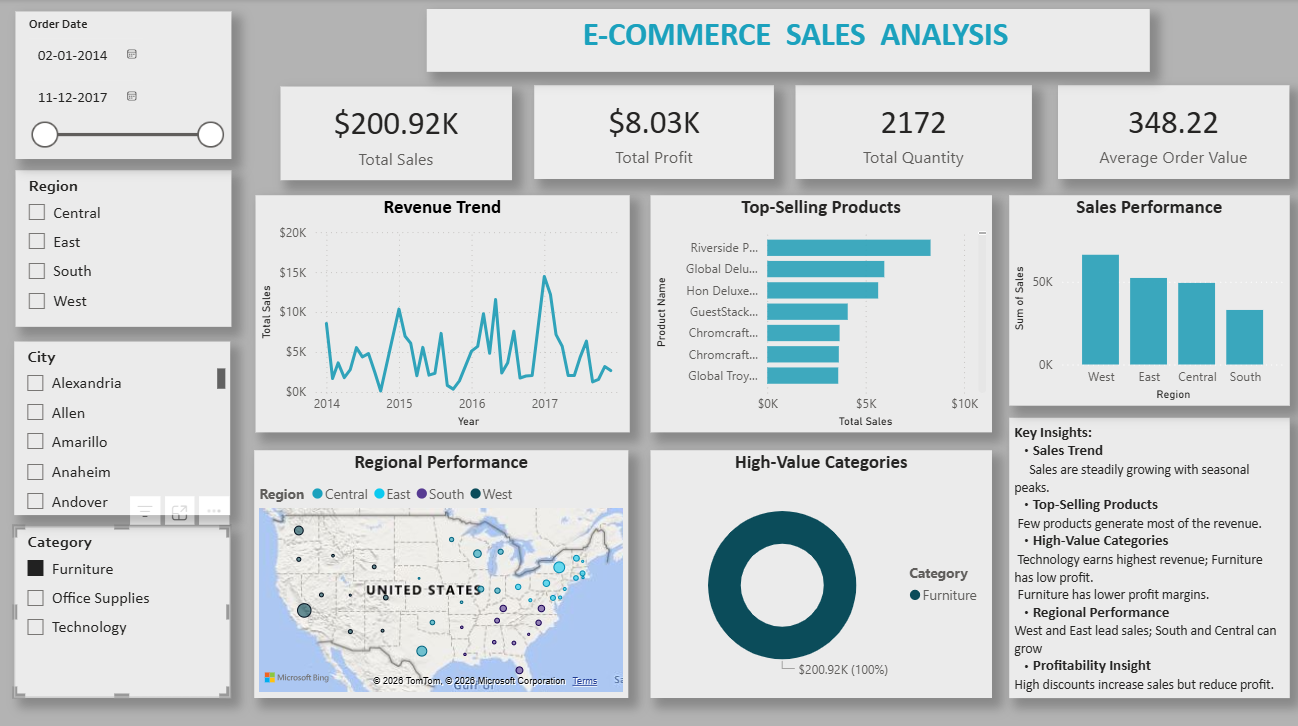

This screenshot's page, from the dashboard's own definition file:
{"tool":"powerbi","page":{"name":"E-Commerce Sales Dashbord","canvas":[1280,720],"ordinal":0},"visuals":[{"type":"card","fields":{"Values":["Sample - Superstore.Total Sales"]},"box":[277.3,85.9,227,92],"z":0},{"type":"card","fields":{"Values":["Sample - Superstore.Total Quantity"]},"box":[782.8,84.7,231.9,92],"z":1000},{"type":"card","fields":{"Values":["Sample - Superstore.Total Profit"]},"box":[526.4,84.7,235.6,92],"z":2000},{"type":"card","fields":{"Values":["Sample - Superstore.Average Order Value"]},"box":[1040.5,84.7,227,92],"z":3000},{"type":"lineChart","title":"Revenue Trend","fields":{"Y":["Sample - Superstore.Total Sales"],"Category":["Sample - Superstore.Order Date.Variation.Date Hierarchy.Year","Sample - Superstore.Order Date.Variation.Date Hierarchy.Month"]},"box":[252.8,192.6,366.9,233.1],"z":4000},{"type":"barChart","title":"Top-Selling Products","fields":{"Y":["Sample - Superstore.Total Sales"],"Category":["Sample - Superstore.Product Name"]},"box":[640.5,192.6,335,233.1],"z":5000},{"type":"donutChart","title":"High-Value Categories","fields":{"Y":["Sample - Superstore.Total Sales"],"Category":["Sample - Superstore.Category"]},"box":[640.5,442.9,335,242.9],"z":6000},{"type":"slicer","fields":{"Values":["Sample - Superstore.Category"]},"box":[16,517.8,212.3,168.1],"z":7000},{"type":"slicer","fields":{"Values":["Sample - Superstore.Region"]},"box":[17.2,168.1,212.3,153.4],"z":8000},{"type":"slicer","fields":{"Values":["Sample - Superstore.Order Date"]},"box":[17.2,12.3,212.3,144.8],"z":9000},{"type":"map","title":"Regional Performance","fields":{"Size":["Sample - Superstore.Total Sales"],"Series":["Sample - Superstore.Region"],"Category":["Sample - Superstore.State"]},"box":[251.5,442.9,366.9,242.9],"z":10000},{"type":"textbox","box":[992.6,411,274.8,274.8],"z":11000},{"type":"columnChart","title":"Sales Performance","fields":{"Y":["Sum(Sample - Superstore.Sales)"],"Category":["Sample - Superstore.Region"]},"box":[992.6,192.6,274.8,206.1],"z":12000},{"type":"textbox","box":[420.9,9.8,709.2,61.4],"z":13000},{"type":"slicer","fields":{"Values":["Sample - Superstore.City"]},"box":[16,336.2,212.3,170.6],"z":14000}]}

Visuals, with their boxes in screenshot pixels (x1, y1, x2, y2), scaled from the page's 1280x720 canvas onto the 1298x726 screenshot:
card - Sample - Superstore.Total Sales: 281,87,511,179
card - Sample - Superstore.Total Quantity: 794,85,1029,178
card - Sample - Superstore.Total Profit: 534,85,773,178
card - Sample - Superstore.Average Order Value: 1055,85,1285,178
"Revenue Trend" lineChart: 256,194,628,429
"Top-Selling Products" barChart: 650,194,989,429
"High-Value Categories" donutChart: 650,447,989,692
slicer - Sample - Superstore.Category: 16,522,232,692
slicer - Sample - Superstore.Region: 17,170,233,324
slicer - Sample - Superstore.Order Date: 17,12,233,158
"Regional Performance" map: 255,447,627,692
textbox: 1007,414,1285,692
"Sales Performance" columnChart: 1007,194,1285,402
textbox: 427,10,1146,72
slicer - Sample - Superstore.City: 16,339,232,511
